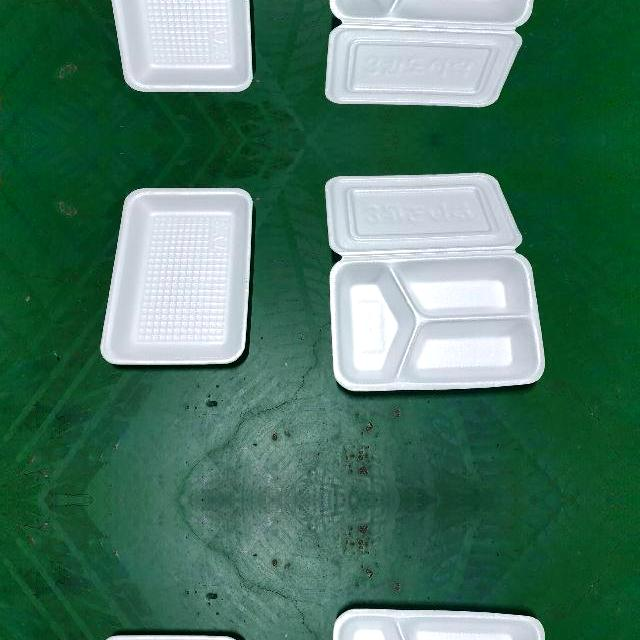Styrofoam: (325, 171, 545, 391), (325, 172, 546, 391), (98, 187, 252, 365), (100, 187, 252, 364), (325, 0, 545, 109), (325, 0, 534, 108), (98, 0, 252, 93), (111, 0, 252, 93)
